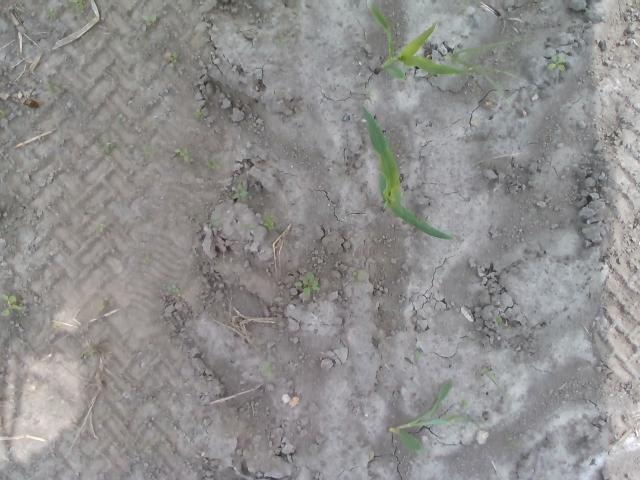Maize: (359, 106, 456, 240), (369, 8, 486, 82), (388, 379, 476, 451)
Weeds: (447, 35, 528, 100), (294, 270, 322, 296), (0, 290, 24, 317), (480, 364, 497, 385), (547, 55, 568, 72), (174, 147, 194, 163), (205, 158, 224, 172), (232, 184, 248, 200), (71, 0, 90, 13), (164, 50, 178, 67), (261, 214, 274, 231), (261, 360, 273, 376), (205, 215, 218, 228), (273, 37, 288, 48), (44, 82, 60, 92), (143, 15, 160, 24), (493, 314, 502, 329), (192, 108, 204, 119), (102, 140, 112, 153), (142, 144, 150, 160), (414, 350, 426, 360), (240, 223, 256, 230), (170, 288, 183, 296), (96, 224, 107, 233), (0, 108, 8, 118), (46, 8, 54, 16)
